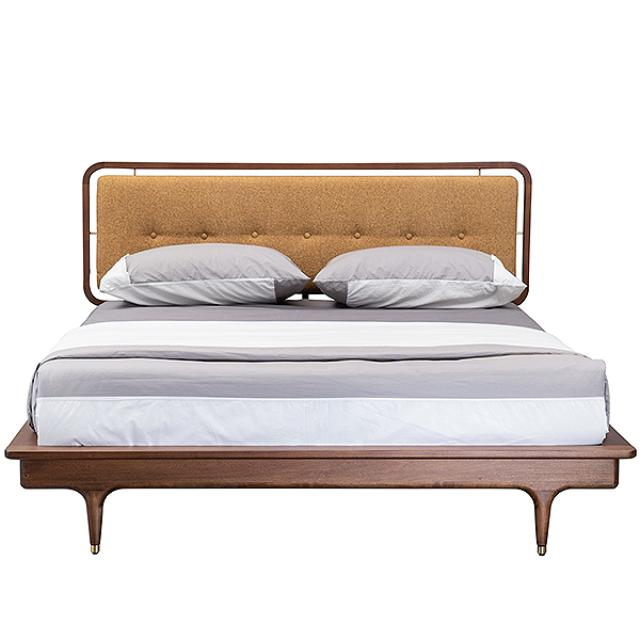bed vintage: (6, 149, 639, 573)
